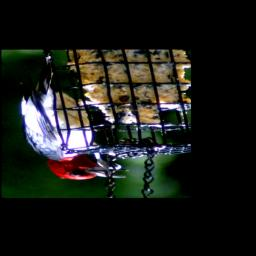Woodpecker: (18, 50, 132, 181)
